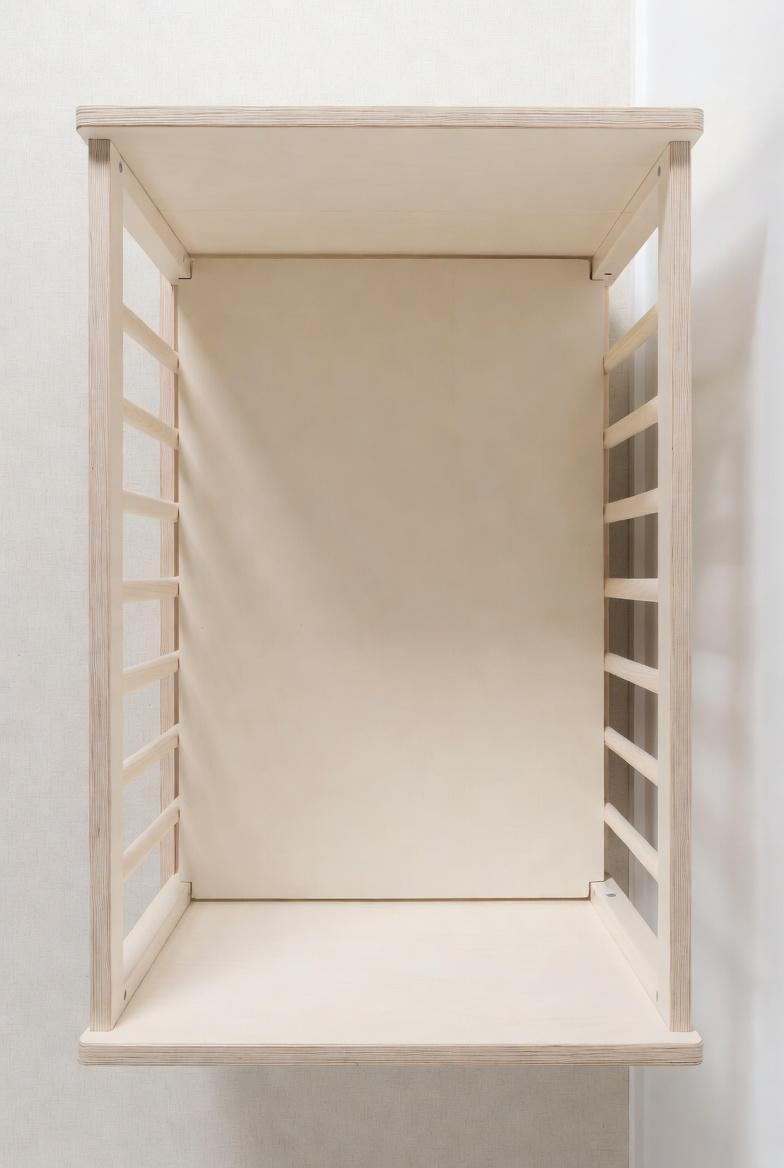crib: (37, 72, 755, 1092)
